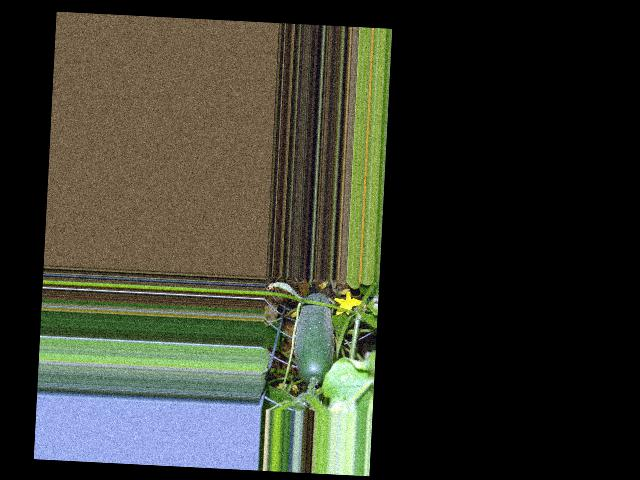cucumber: (291, 292, 336, 385)
